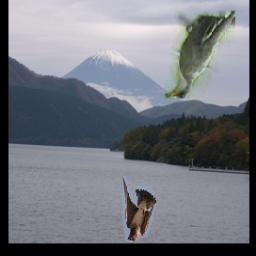Cuckoo: (166, 12, 236, 100)
Swallow: (122, 176, 156, 242)
